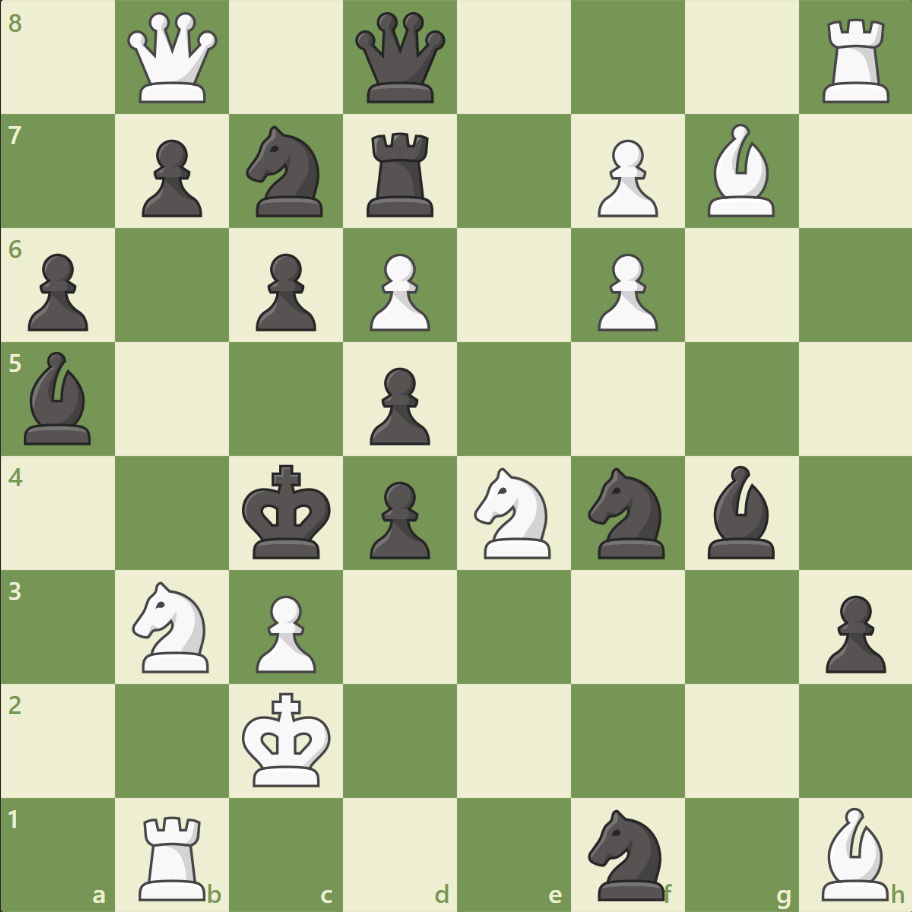B: (812, 801, 896, 904), (698, 120, 782, 222)
K: (238, 685, 338, 793)
N: (124, 575, 222, 677), (465, 461, 562, 564)
P: (247, 586, 322, 677), (588, 132, 662, 223), (361, 246, 435, 337), (588, 246, 662, 337)
Q: (124, 9, 223, 108)
R: (814, 12, 897, 109), (133, 806, 215, 904)
b: (698, 460, 782, 563), (17, 347, 101, 449)
k: (238, 458, 338, 566)
n: (579, 461, 676, 564), (238, 121, 335, 223), (579, 802, 676, 904)
p: (133, 132, 208, 223), (20, 246, 95, 337), (247, 246, 322, 337), (361, 359, 435, 450), (361, 473, 435, 564), (815, 586, 889, 677)
q: (351, 9, 450, 108)
r: (360, 125, 442, 222)
